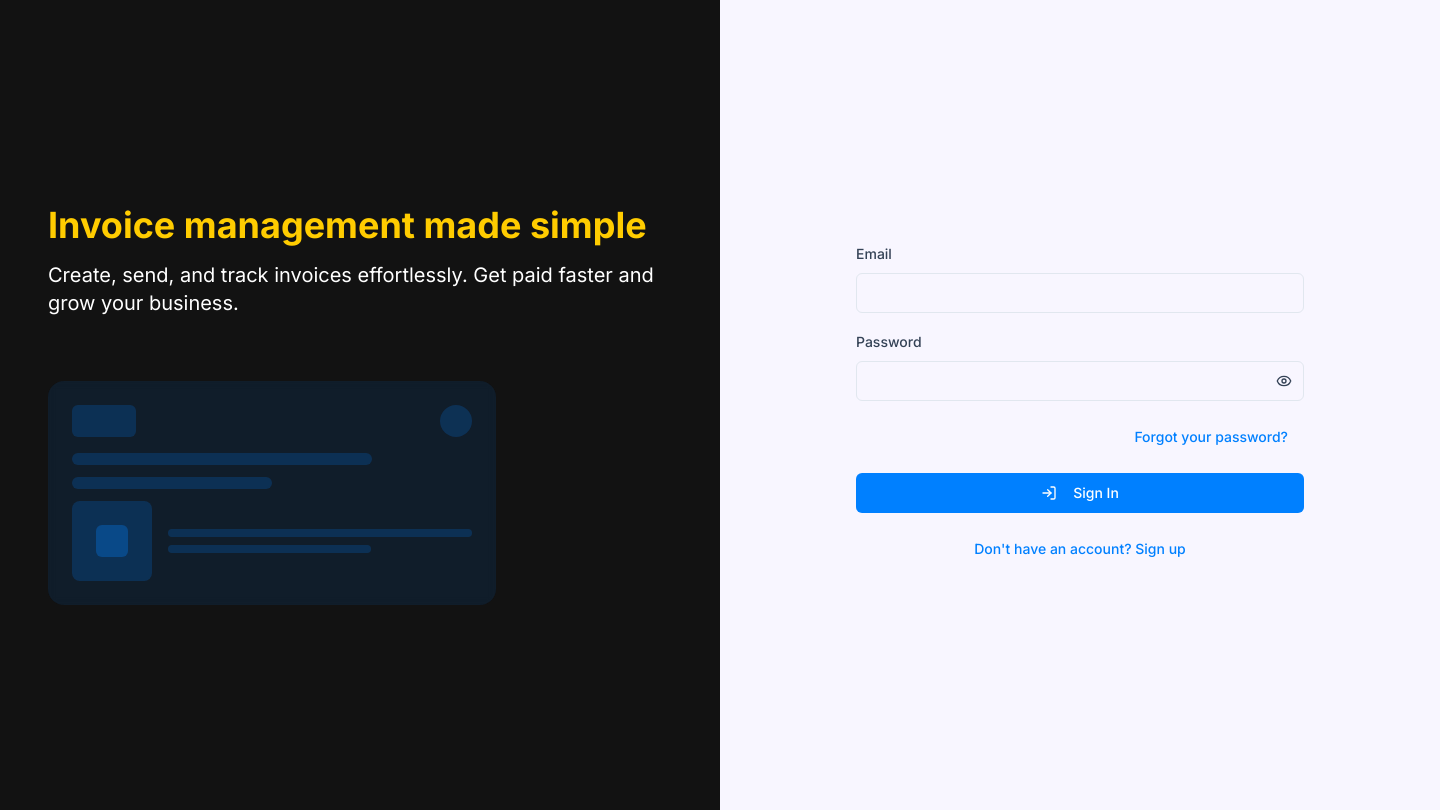
Scenario: Auth Page (real useAuth + mocked Supabase) › switch to forgot password form works
Click the button "Forgot your password?": coordinates (1211, 437) [1118,417,1304,457]
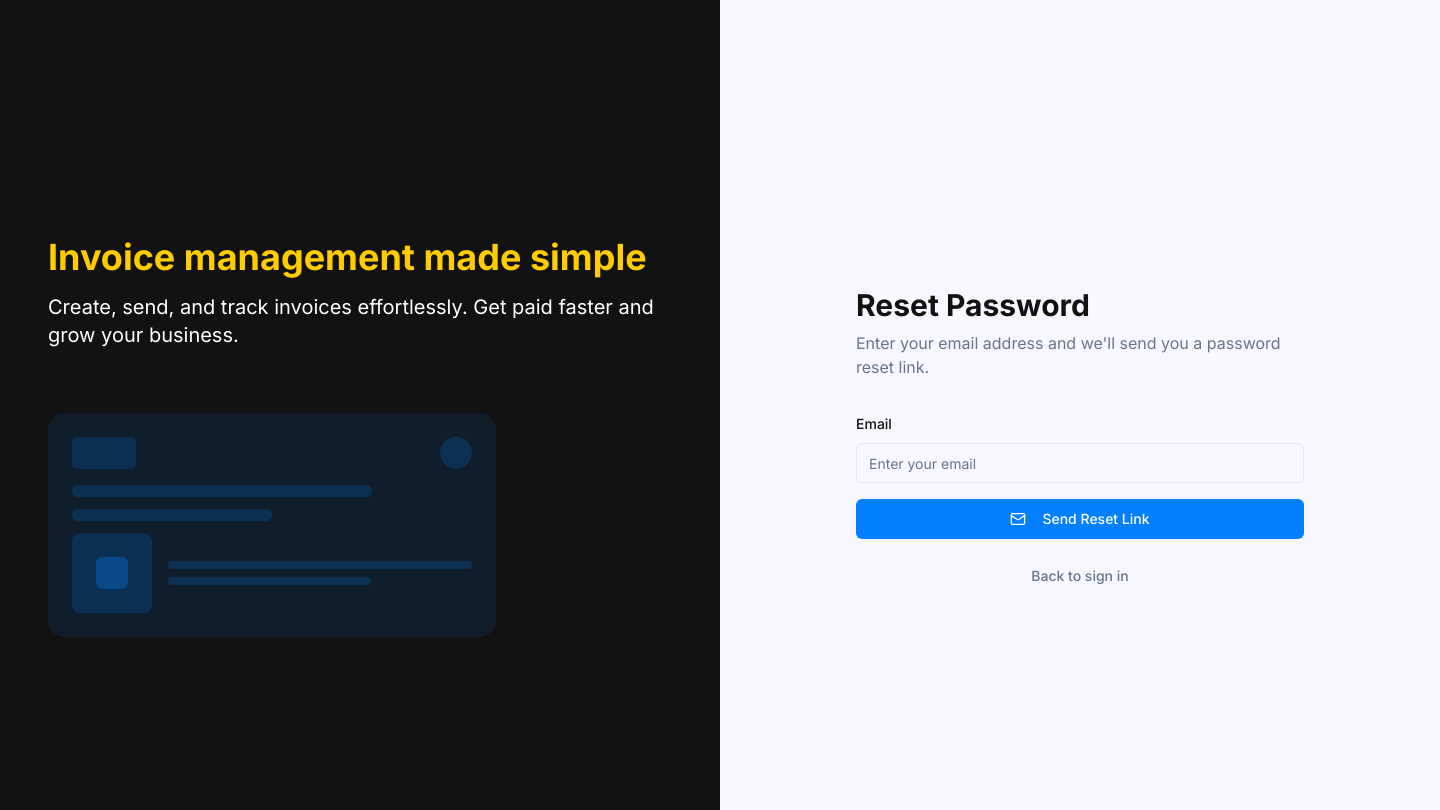
Check: the text "Enter your email address and we'll send you a password reset link." is shown, box [856,331,1304,379]
